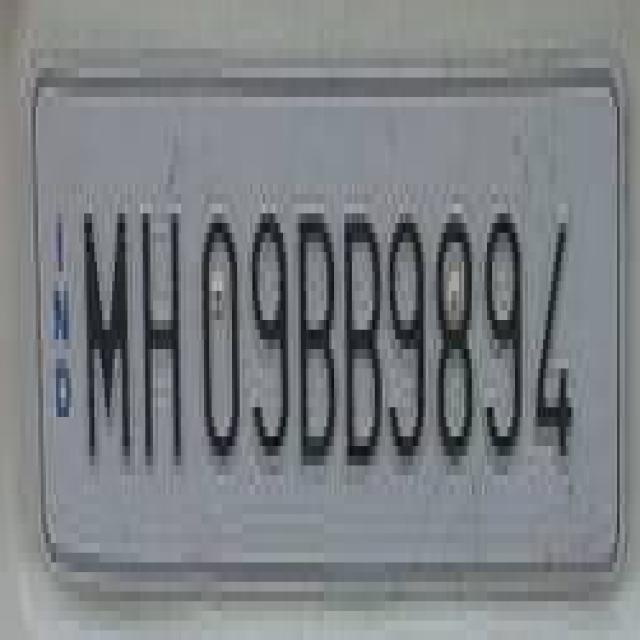plate: (46, 68, 625, 582)
